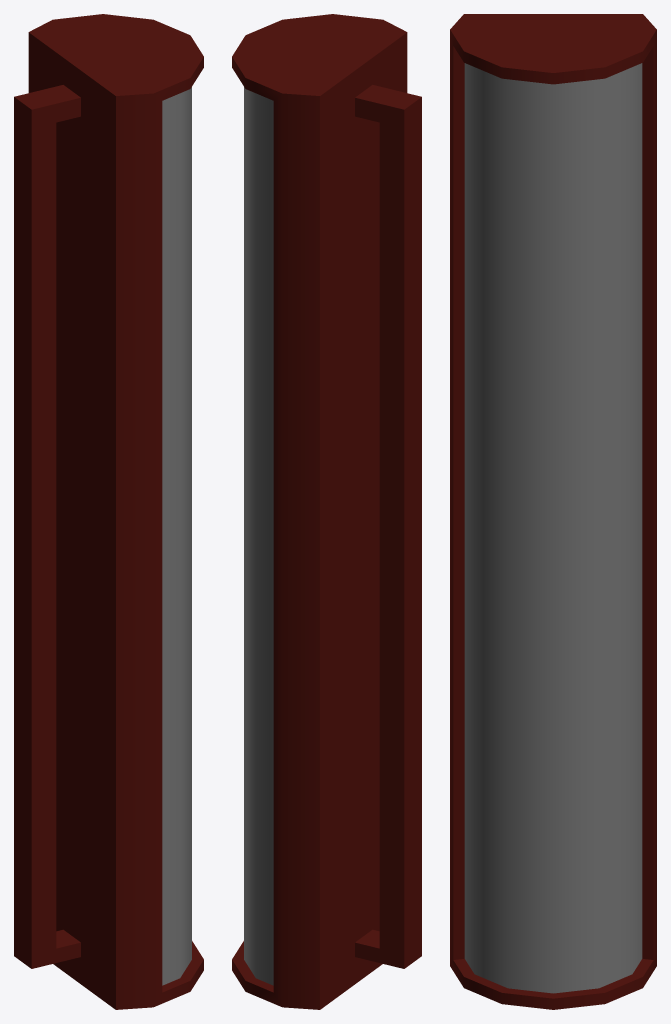
File: SM_HandLamp_a01.fbx
3 views of the same model, side by side, from view 1: azimuth 30°, elevation 25°; view 2: azimuth 150°, elevation 25°; view 3: azimuth 270°, elevation 25° (orthographic). The views are drawn at different scales.
Parts seen in each view (by area): view 1: SM_HandLamp_a01; view 2: SM_HandLamp_a01; view 3: SM_HandLamp_a01.
Part boxes in pixels (x1,y1,x2,y2): SM_HandLamp_a01: [14, 14, 203, 1009]; SM_HandLamp_a01: [232, 14, 421, 1009]; SM_HandLamp_a01: [450, 14, 656, 1009].
Bounding box in the file's own units: 11.52 × 60 × 12.
